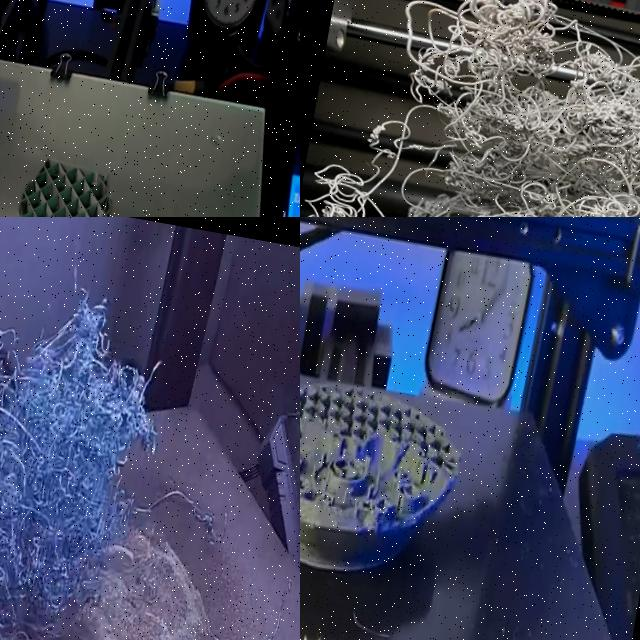spaghetti: (0, 221, 188, 640), (320, 0, 640, 217), (248, 569, 300, 640)
